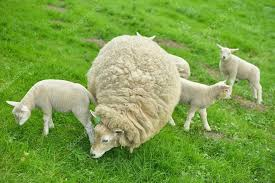sheep: (85, 37, 184, 160), (13, 78, 91, 144), (214, 44, 269, 102), (177, 73, 229, 134)
